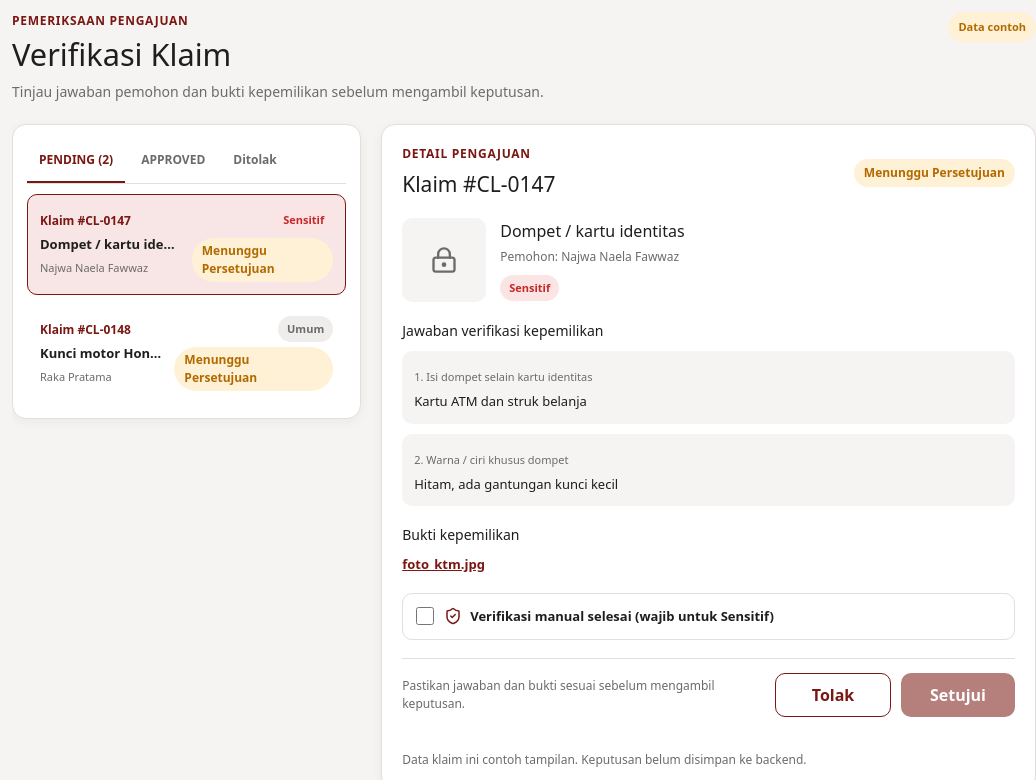
Test case: Admin pages › requires manual verification before approving sensitive claims
The image size is (1036, 780).
expect the button "Setujui" is disabled: met, box [901,673,1015,717]
Click the checkbox labelled "Verifikasi manual selesai (wajib untuk Sensitif)" at (425, 616), box [416,607,434,625]
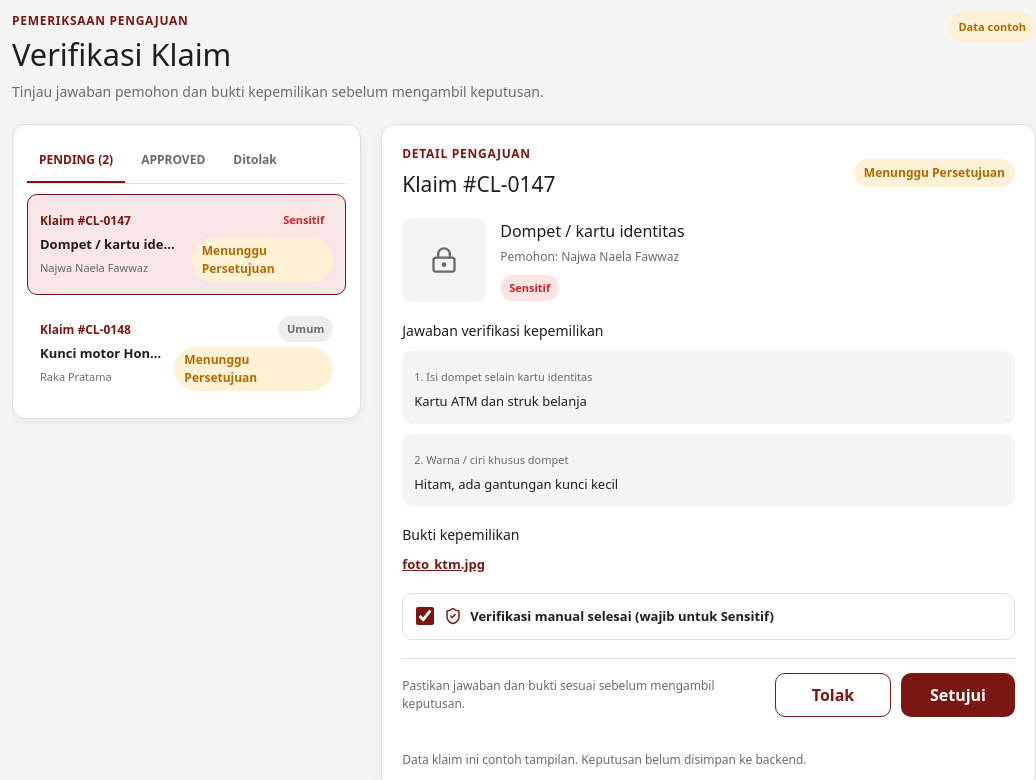
expect the button "Setujui" is enabled: met, box [901,673,1015,717]
